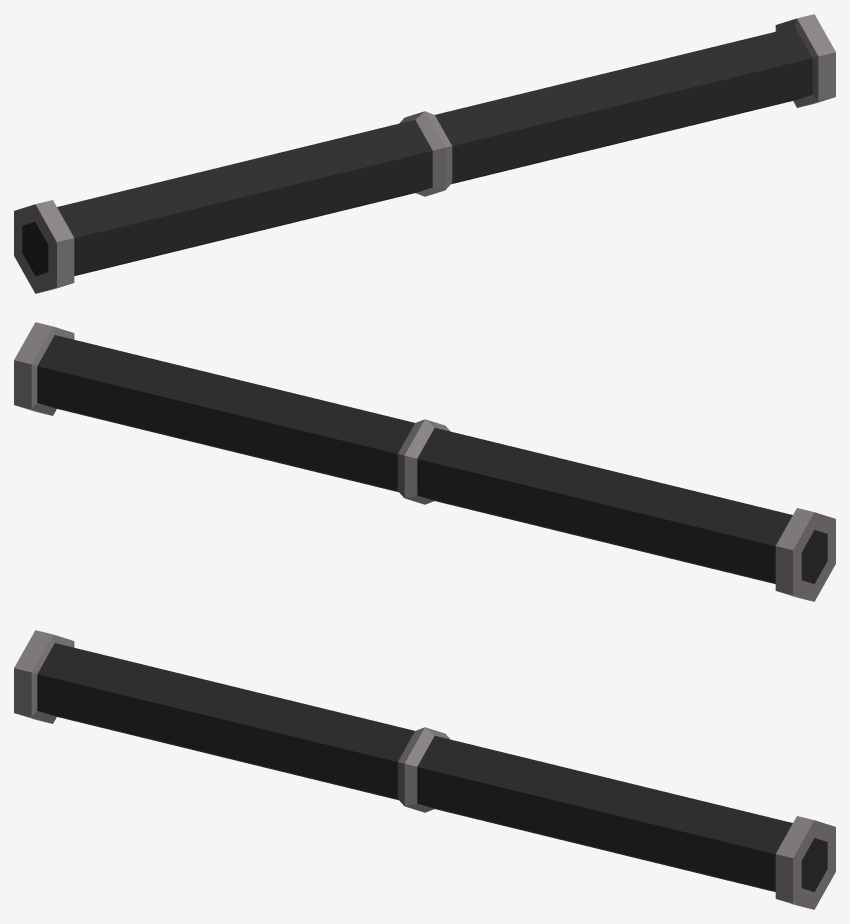
Rendered from scifi-pipe-corridor.glb.
3 views of the same model, one above another, from view 1: azimuth 30°, elevation 25°; view 2: azimuth 150°, elevation 25°; view 3: azimuth 330°, elevation 25° (orthographic).
Visible parts, largest first — view 1: scifi-pipe-corridor; view 2: scifi-pipe-corridor; view 3: scifi-pipe-corridor.
Part boxes in pixels (box(x1,y1,x2,y2)): scifi-pipe-corridor: box(14, 14, 835, 293); scifi-pipe-corridor: box(14, 322, 835, 601); scifi-pipe-corridor: box(14, 630, 835, 909).
Size of the model in its own units: 4 by 0.44 by 0.3811.
Materials: 1 (1 with a texture image).
